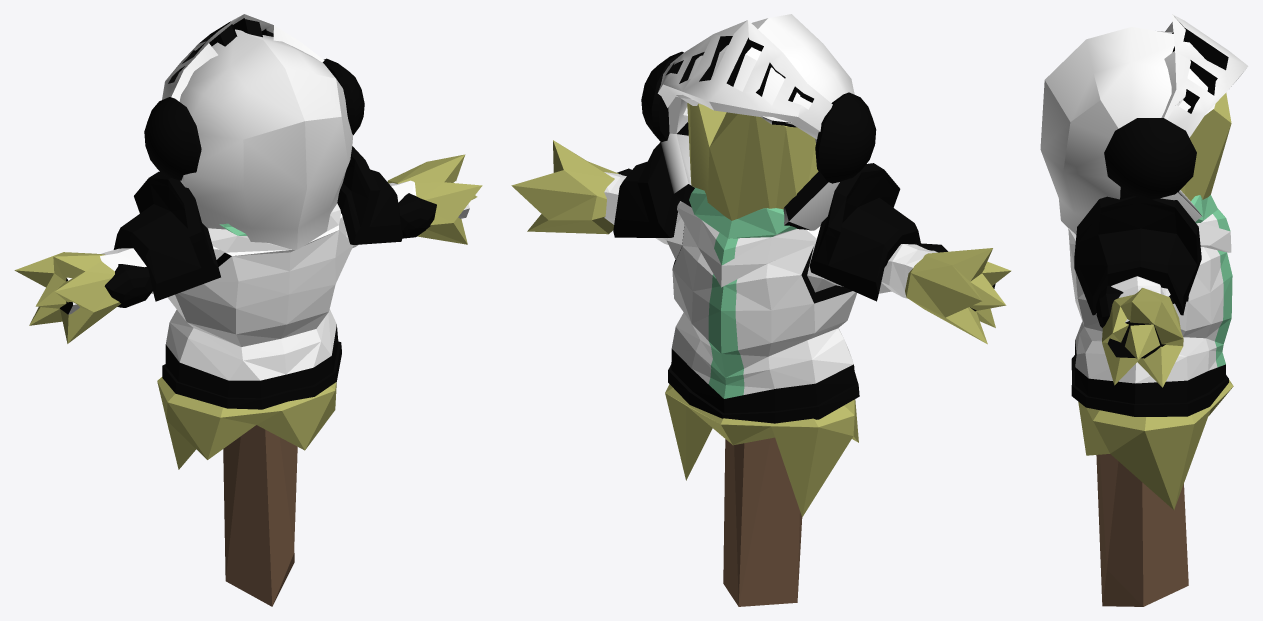
File: AdvancedDummy.fbx
3 views of the same model, side by side, from view 1: azimuth 30°, elevation 25°; view 2: azimuth 150°, elevation 25°; view 3: azimuth 270°, elevation 25° (orthographic). The views are drawn at different scales.
Visible parts, largest first — view 1: plateArmor_chest, plateArmor_helmetFeather, Straw, Post; view 2: plateArmor_chest, Straw, plateArmor_helmetFeather, Post; view 3: plateArmor_helmetFeather, plateArmor_chest, Straw, Post.
Boxes of the visible parts, x1,y1,x2,y2 form: plateArmor_chest: [59, 146, 469, 409]; plateArmor_helmetFeather: [144, 14, 364, 249]; Straw: [14, 154, 482, 469]; Post: [223, 425, 297, 606]; plateArmor_chest: [604, 142, 995, 423]; Straw: [511, 103, 1011, 516]; plateArmor_helmetFeather: [641, 14, 876, 230]; Post: [723, 437, 802, 606]; plateArmor_helmetFeather: [1040, 14, 1248, 234]; plateArmor_chest: [1068, 195, 1232, 416]; Straw: [1078, 92, 1233, 509]; Post: [1096, 454, 1188, 606].
Bounding box in the file's own units: 0.8819 × 1.08 × 0.3422.
